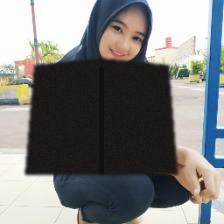Cadar_Niqab: (24, 0, 178, 174)
